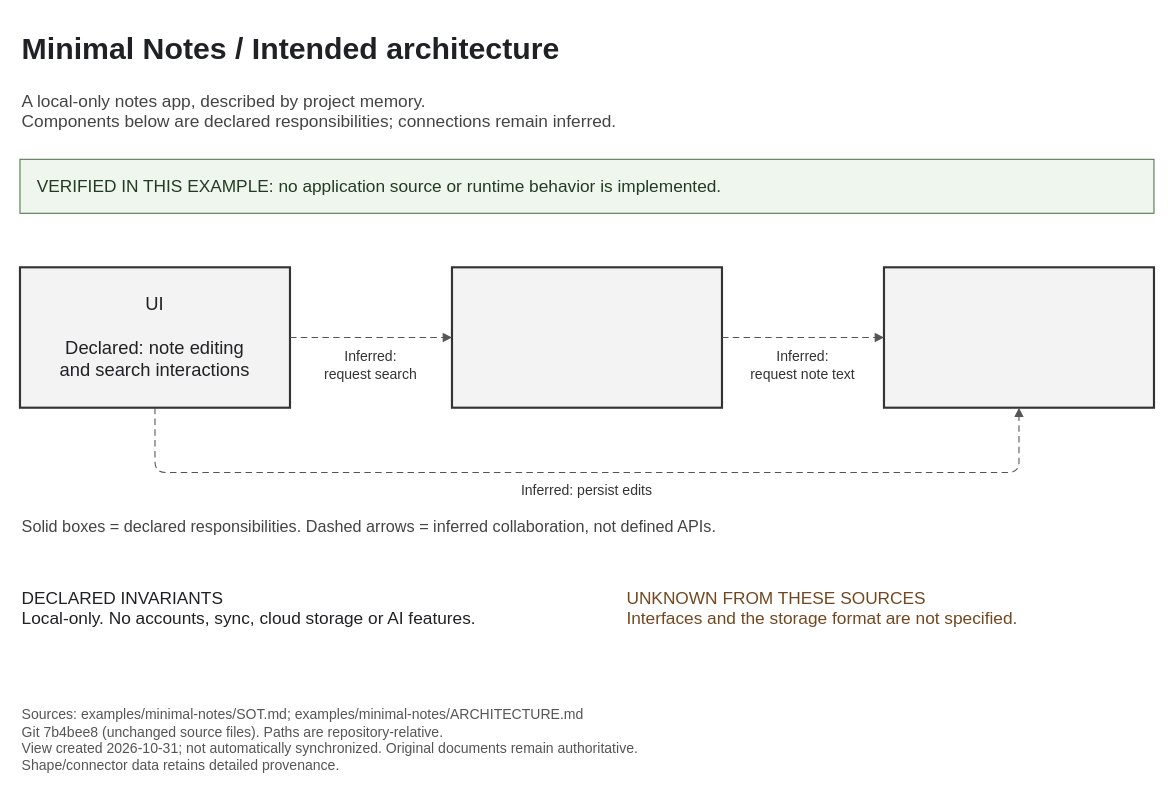
This 1173x793 diagram has some shape labels left out. Each missing label, with the centre of its shape:
"Search Declared: read note text; return matching IDs" goes at point (586, 337).
"Storage Declared: local note persistence" goes at point (1018, 337).
